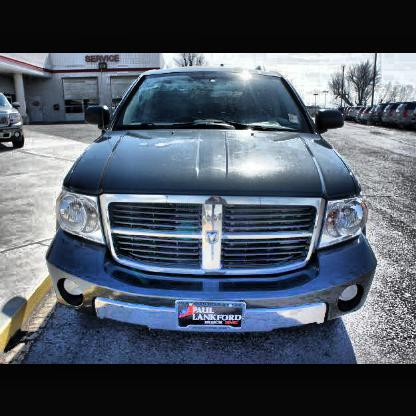Dodge Durango SUV 2007: (41, 55, 385, 346)
